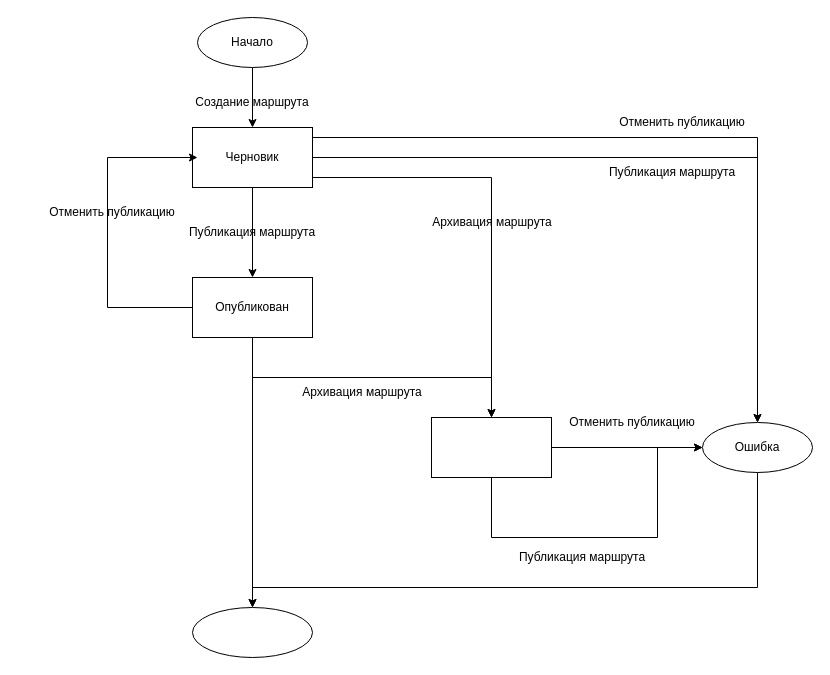
Some shapes in this 830 by 675 pixel diagram are drawn without their labels. The shapes that lost their labels are listed below. From the top down, each one's box as (x1, y1, x2, y2) in pixels, then its label:
(430, 416, 552, 478): Архив
(192, 606, 312, 658): Конец
